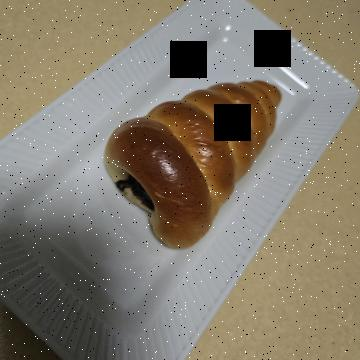cream horn: (53, 52, 268, 259)
